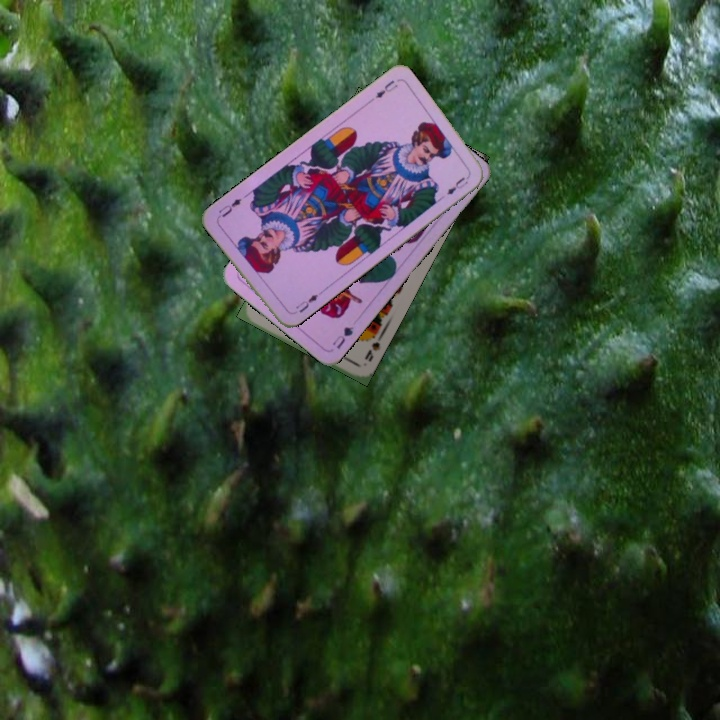EU: (288, 288, 323, 317), (371, 76, 400, 101)
GU: (328, 321, 356, 352)
S9: (361, 328, 386, 364)
